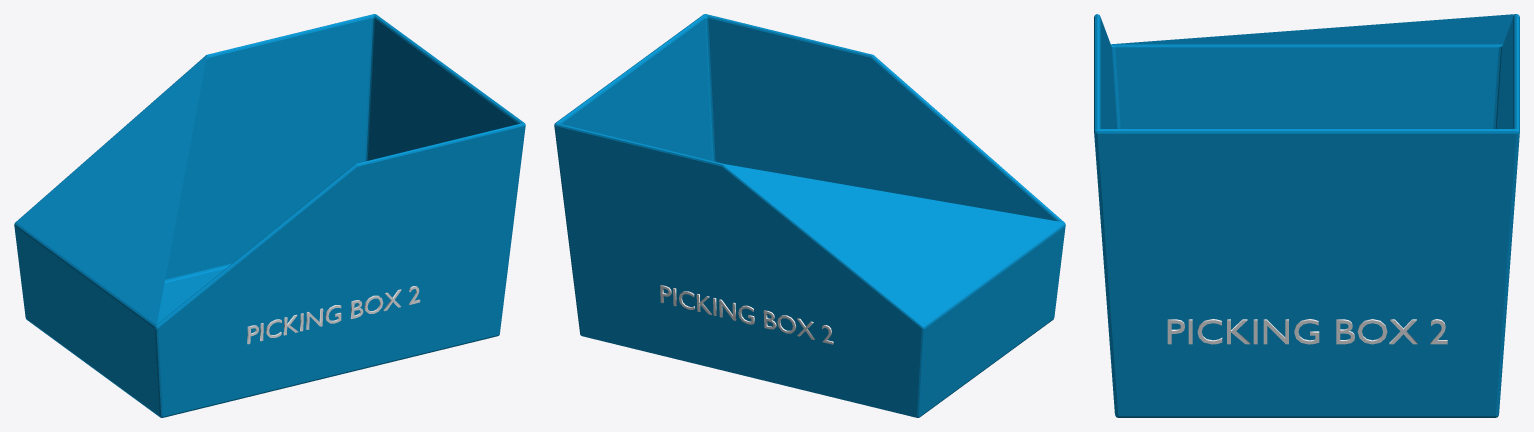
3 views of the same model, side by side, from view 1: azimuth 30°, elevation 25°; view 2: azimuth 150°, elevation 25°; view 3: azimuth 270°, elevation 25° (orthographic). The views are drawn at different scales.
Parts seen in each view (by area): view 1: picking-bin-2; view 2: picking-bin-2; view 3: picking-bin-2.
Boxes of the visible parts, bbox=[...] form: picking-bin-2: bbox=[14, 14, 525, 417]; picking-bin-2: bbox=[554, 14, 1065, 417]; picking-bin-2: bbox=[1094, 14, 1519, 417].
Size of the model in its own units: 0.2866 by 0.16 by 0.2048.
